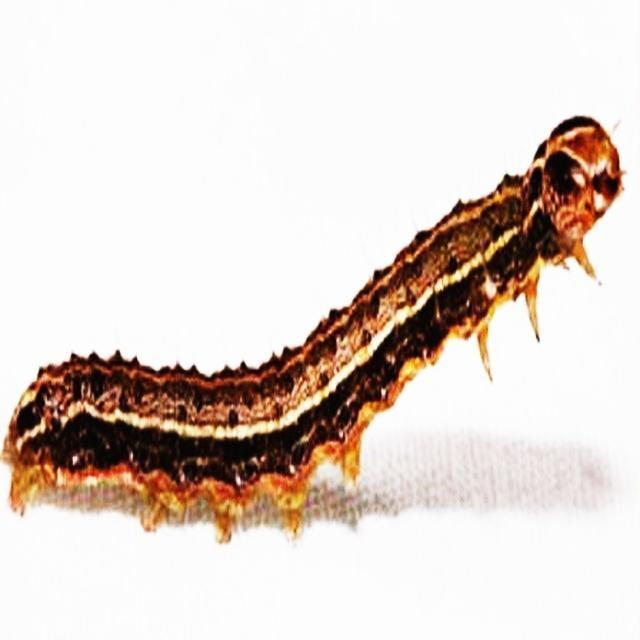gusano_cogollero: (11, 120, 618, 525)
